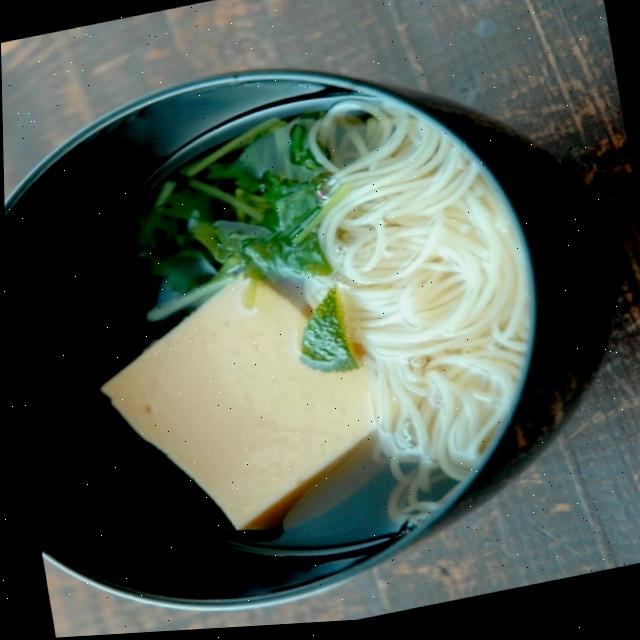汤锅炖物: (1, 23, 598, 640)
